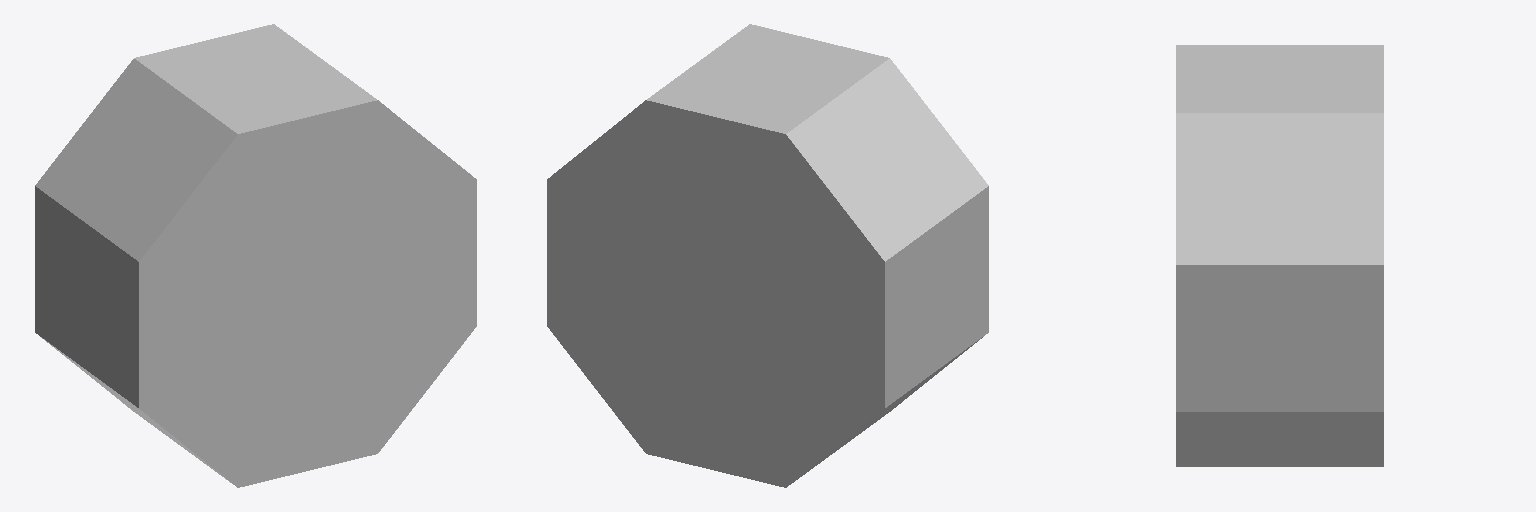
Rendered from boiler_z_raised.obj.
The picture shows the model from 3 angles: view 1: azimuth 30°, elevation 25°; view 2: azimuth 150°, elevation 25°; view 3: azimuth 270°, elevation 25°; orthographic projection.
Parts seen in each view (by area): view 1: Boiler; view 2: Boiler; view 3: Boiler.
Boxes of the visible parts, x1=… form: Boiler: x1=35, y1=24, x2=476, y2=487; Boiler: x1=547, y1=24, x2=988, y2=487; Boiler: x1=1176, y1=45, x2=1383, y2=466.
Size of the model in its own units: 1.88 by 1.88 by 1.